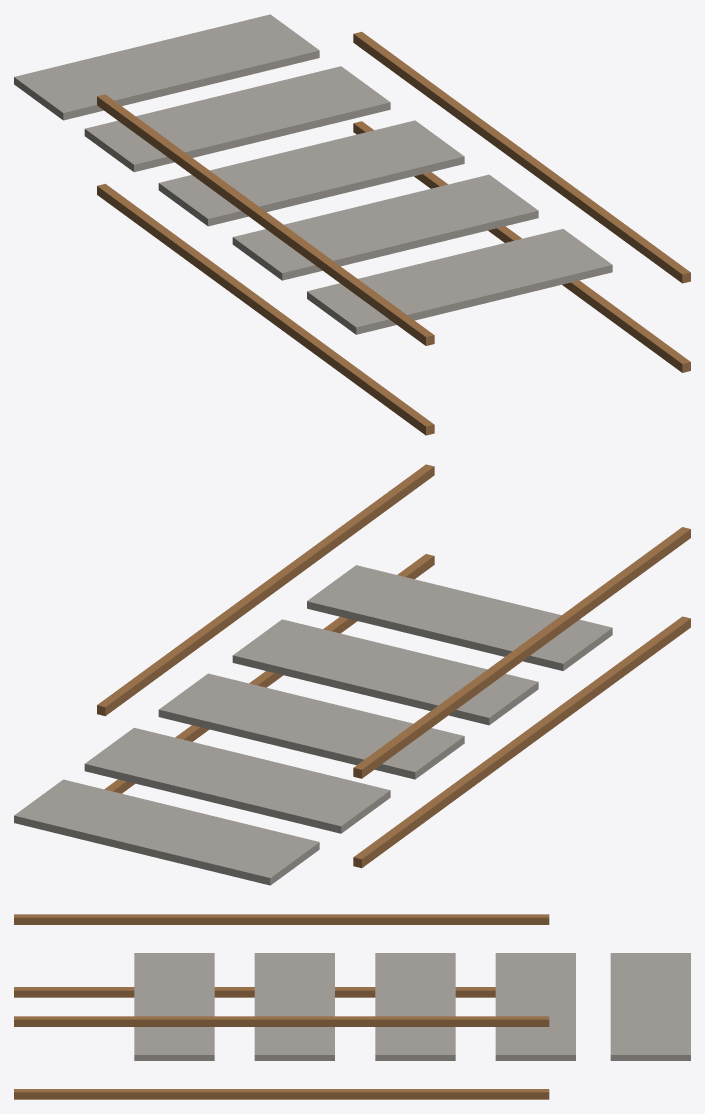
File: prop_toppled_shelf.fbx
3 renders of one model, top to bottom at view 1: azimuth 30°, elevation 25°; view 2: azimuth 150°, elevation 25°; view 3: azimuth 270°, elevation 25°, orthographic. The views are drawn at different scales.
Visible parts, largest first — view 1: B1.88, B0.55, B1.45, B1.0, B0.1, P0.450.15, P-0.45-0.15, P-0.450.15, P0.45-0.15; view 2: B1.45, B1.88, B0.55, B1.0, B0.1, P-0.45-0.15, P-0.450.15, P0.450.15, P0.45-0.15; view 3: B1.88, B1.45, B0.1, B1.0, B0.55, P-0.450.15, P0.45-0.15, P0.450.15, P-0.45-0.15.
Boxes of the visible parts, left/top/right/bottom form: B1.88: left=14, top=14, right=319, bottom=120; B0.55: left=232, top=174, right=538, bottom=280; B1.45: left=84, top=66, right=390, bottom=172; B1.0: left=158, top=120, right=464, bottom=226; B0.1: left=307, top=229, right=612, bottom=334; P0.450.15: left=353, top=31, right=690, bottom=283; P-0.45-0.15: left=97, top=183, right=434, bottom=435; P-0.450.15: left=97, top=94, right=434, bottom=345; P0.45-0.15: left=353, top=121, right=690, bottom=372; B1.45: left=84, top=727, right=390, bottom=833; B1.88: left=14, top=779, right=319, bottom=885; B0.55: left=232, top=619, right=538, bottom=725; B1.0: left=158, top=673, right=464, bottom=779; B0.1: left=307, top=565, right=612, bottom=670; P-0.45-0.15: left=353, top=616, right=690, bottom=868; P-0.450.15: left=353, top=527, right=690, bottom=778; P0.450.15: left=97, top=464, right=434, bottom=716; P0.45-0.15: left=104, top=554, right=434, bottom=793; B1.88: left=610, top=953, right=690, bottom=1060; B1.45: left=495, top=953, right=575, bottom=1060; B0.1: left=134, top=953, right=214, bottom=1060; B1.0: left=375, top=953, right=455, bottom=1060; B0.55: left=254, top=953, right=334, bottom=1060; P-0.450.15: left=14, top=914, right=549, bottom=924; P0.45-0.15: left=14, top=1089, right=549, bottom=1099; P0.450.15: left=14, top=1016, right=549, bottom=1026; P-0.45-0.15: left=14, top=987, right=495, bottom=997.
Size of the model in its own units: 93 by 33 by 253.
